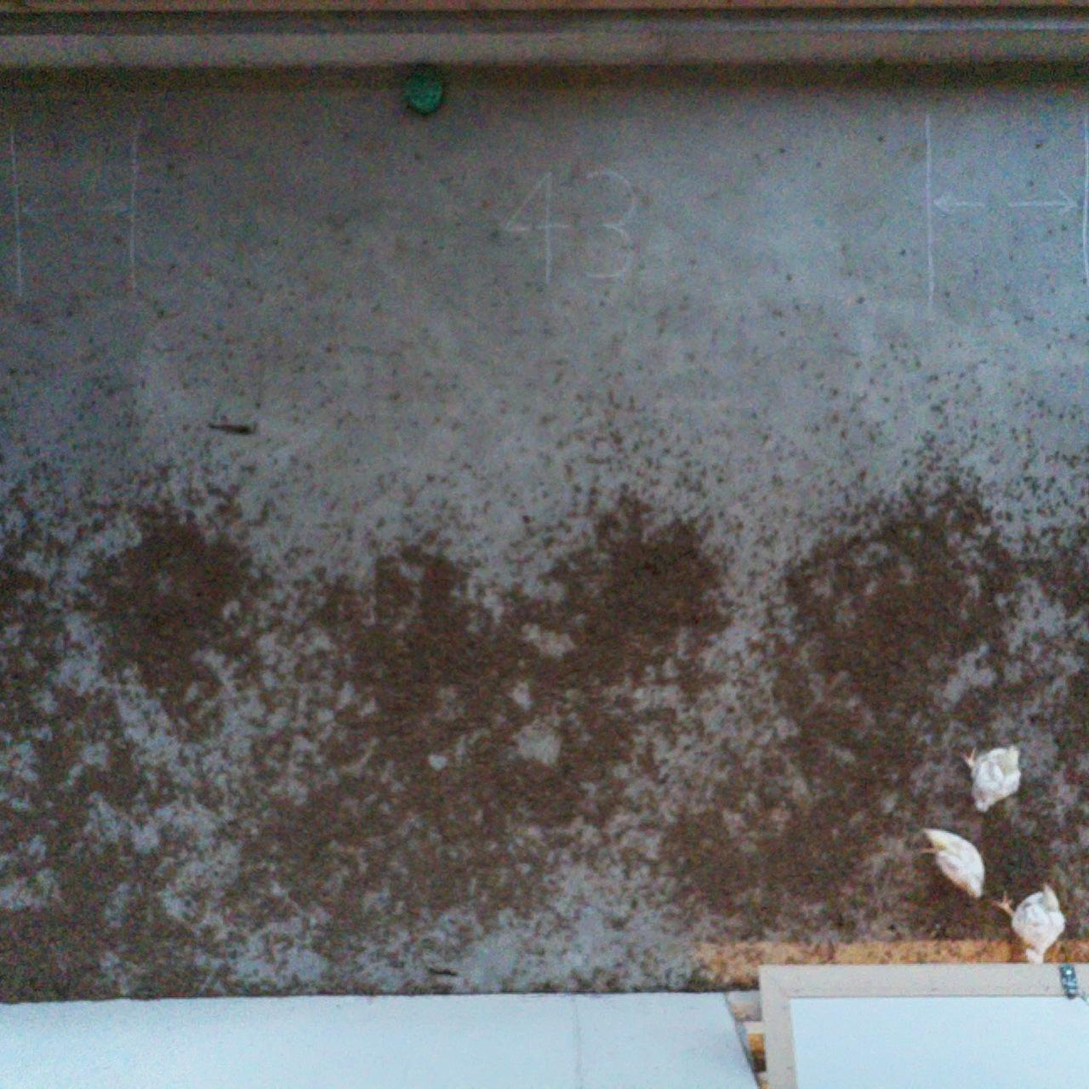chicken: (995, 876, 1071, 971), (916, 814, 993, 906), (961, 738, 1027, 815)
